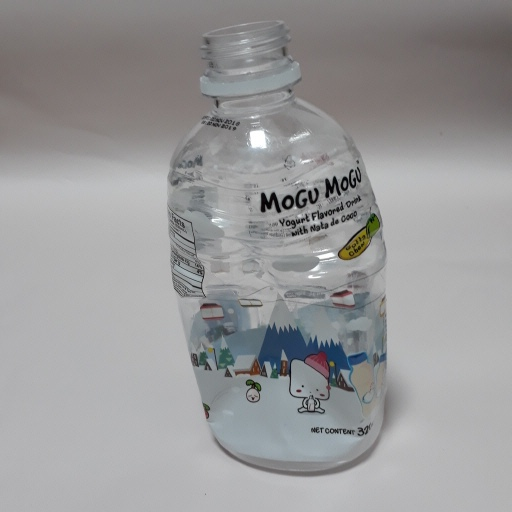Plastic_0: (168, 20, 393, 479)
